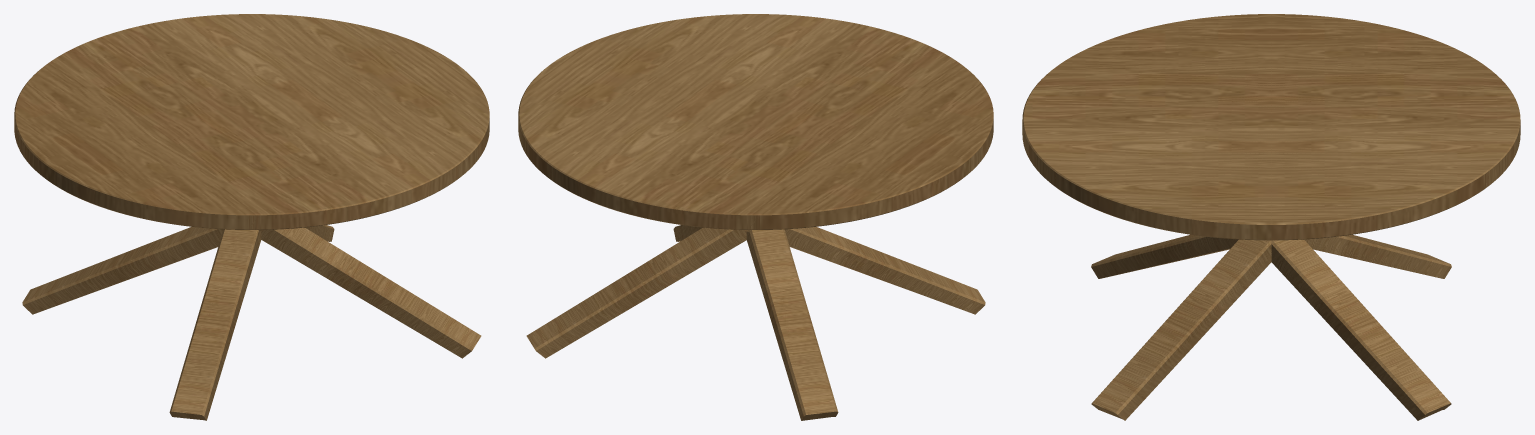
The model's file is round-oak.glb.
3 views of the same model, side by side, from view 1: azimuth 30°, elevation 25°; view 2: azimuth 150°, elevation 25°; view 3: azimuth 270°, elevation 25° (orthographic). The views are drawn at different scales.
Parts seen in each view (by area): view 1: Wood_Round, Base_Round; view 2: Wood_Round, Base_Round; view 3: Wood_Round, Base_Round.
Boxes of the visible parts, x1,y1,x2,y2 form: Wood_Round: [14, 14, 489, 229]; Base_Round: [22, 225, 481, 420]; Wood_Round: [518, 14, 993, 229]; Base_Round: [526, 225, 985, 420]; Wood_Round: [1022, 14, 1520, 240]; Base_Round: [1091, 234, 1451, 420].
Bounding box in the file's own units: 1.52 × 0.762 × 1.52.
1 material, 1 textured.
